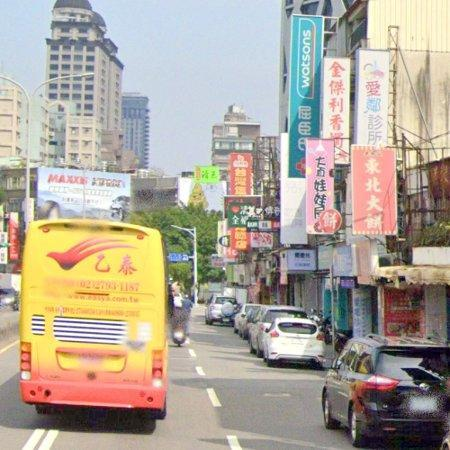buses: (21, 220, 168, 418)
